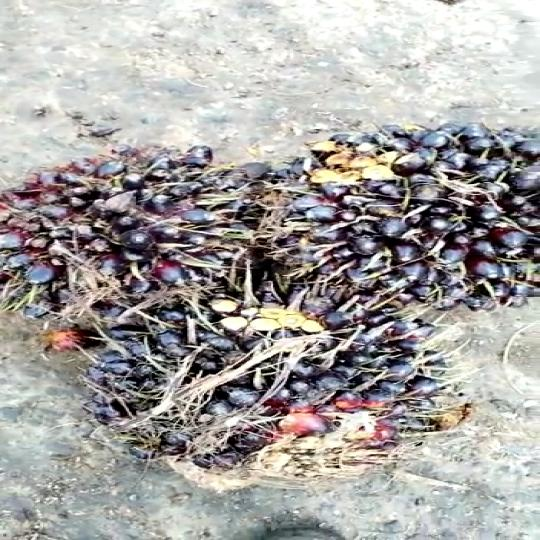mentah: (61, 284, 431, 490), (5, 152, 291, 349), (227, 126, 540, 282)
